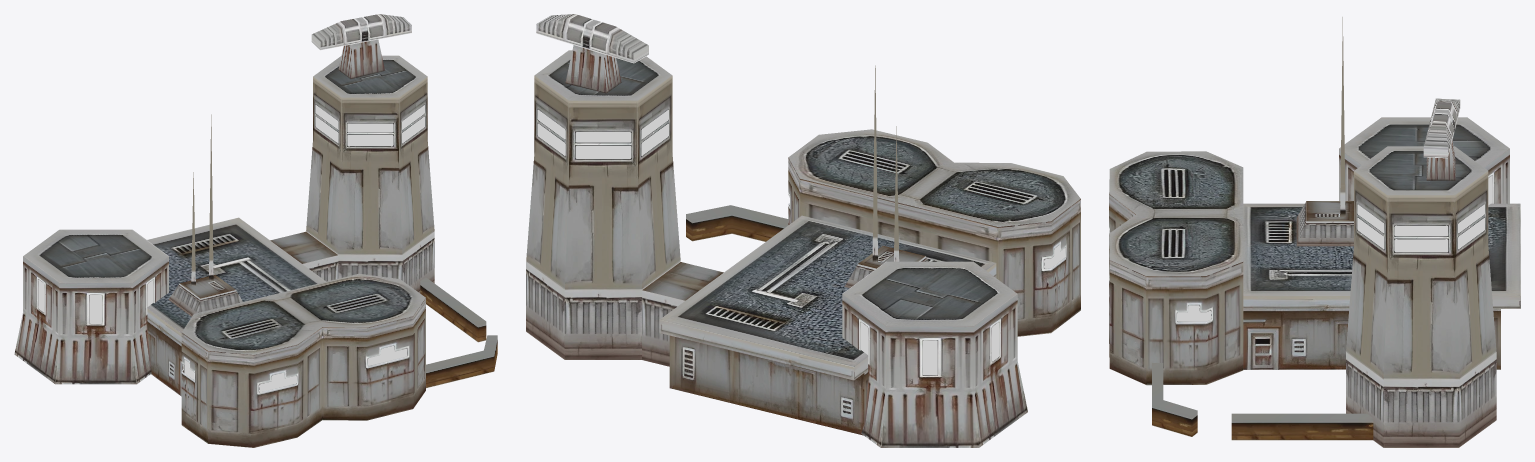
The model's file is s_turretcontrol_hdtex.glb.
3 renders of one model, left to right at view 1: azimuth 30°, elevation 25°; view 2: azimuth 150°, elevation 25°; view 3: azimuth 270°, elevation 25°, orthographic. The views are drawn at different scales.
Parts seen in each view (by area): view 1: S_TurretControl, LITWIN_TurretCon, LOS_Radar, LOS_Antenae; view 2: S_TurretControl, LITWIN_TurretCon, LOS_Radar, LOS_Antenae; view 3: S_TurretControl, LITWIN_TurretCon, LOS_Radar, LOS_Antenae.
Part boxes in pixels (x1,y1,x2,y2): S_TurretControl: [14, 39, 497, 447]; LITWIN_TurretCon: [38, 105, 424, 392]; LOS_Radar: [311, 14, 411, 50]; LOS_Antenae: [191, 114, 213, 285]; S_TurretControl: [526, 45, 1080, 447]; LITWIN_TurretCon: [537, 109, 1065, 375]; LOS_Radar: [536, 14, 648, 63]; LOS_Antenae: [872, 65, 899, 262]; S_TurretControl: [1109, 117, 1520, 447]; LITWIN_TurretCon: [1177, 176, 1492, 321]; LOS_Radar: [1423, 98, 1460, 158]; LOS_Antenae: [1340, 17, 1345, 216].
Size of the model in its own units: 25.28 by 16.66 by 20.14.
Materials: 2 (2 with a texture image).
